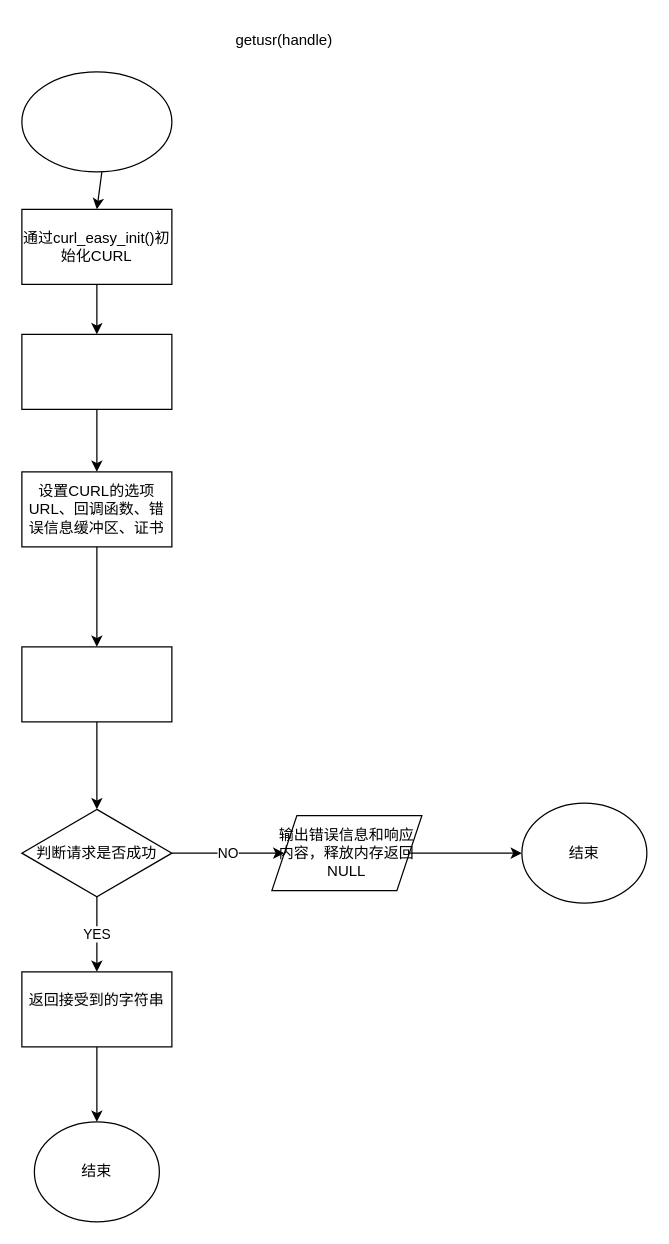
The diagram is 669 pixels wide and 1244 high, and some of its shapes have lost their labels. Each missing label, with the box of its shape:
利用参数handle构造URL: (21, 333, 172, 409)
开始: (21, 71, 172, 172)
通过curl_easy_perform()发起请求: (21, 646, 172, 722)
